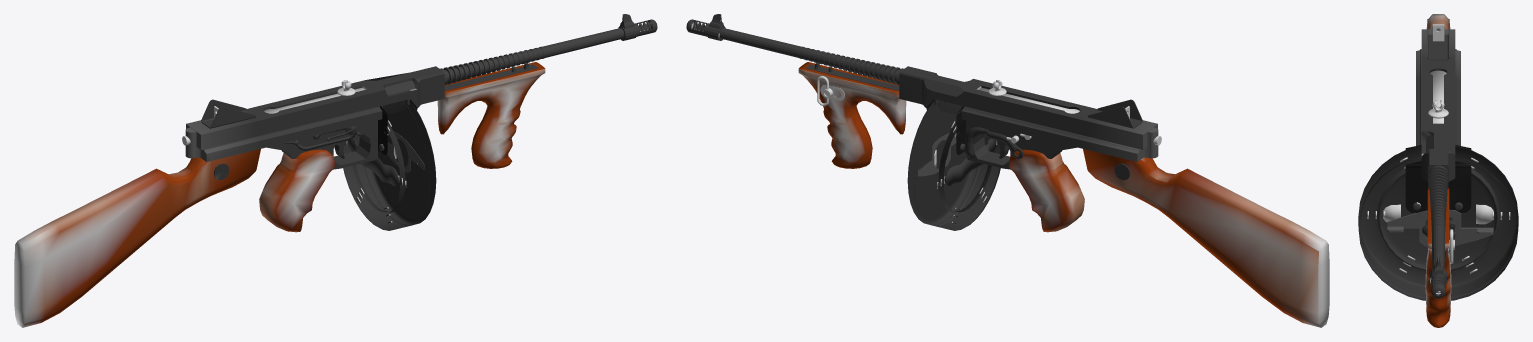
File: Thompsonchargeur.fbx
3 views of the same model, side by side, from view 1: azimuth 30°, elevation 25°; view 2: azimuth 150°, elevation 25°; view 3: azimuth 270°, elevation 25° (orthographic). The views are drawn at different scales.
Visible parts, largest first — view 1: gunThompson, chargeurThomson; view 2: gunThompson, chargeurThomson; view 3: chargeurThomson, gunThompson.
Boxes of the visible parts, x1,y1,x2,y2 form: gunThompson: (14, 14, 657, 327); chargeurThomson: (343, 99, 436, 230); gunThompson: (686, 14, 1329, 327); chargeurThomson: (907, 99, 1000, 230); chargeurThomson: (1358, 145, 1518, 300); gunThompson: (1416, 14, 1460, 327).
Size of the model in its own units: 149 by 39.27 by 28.92.
